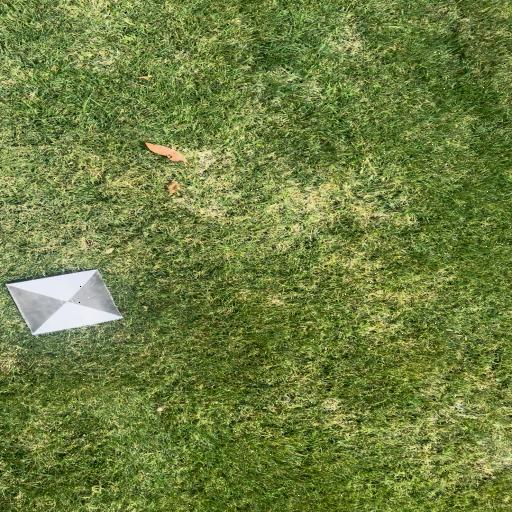target: (6, 270, 122, 335)
